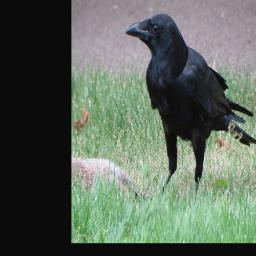Crow: (123, 12, 256, 198)
